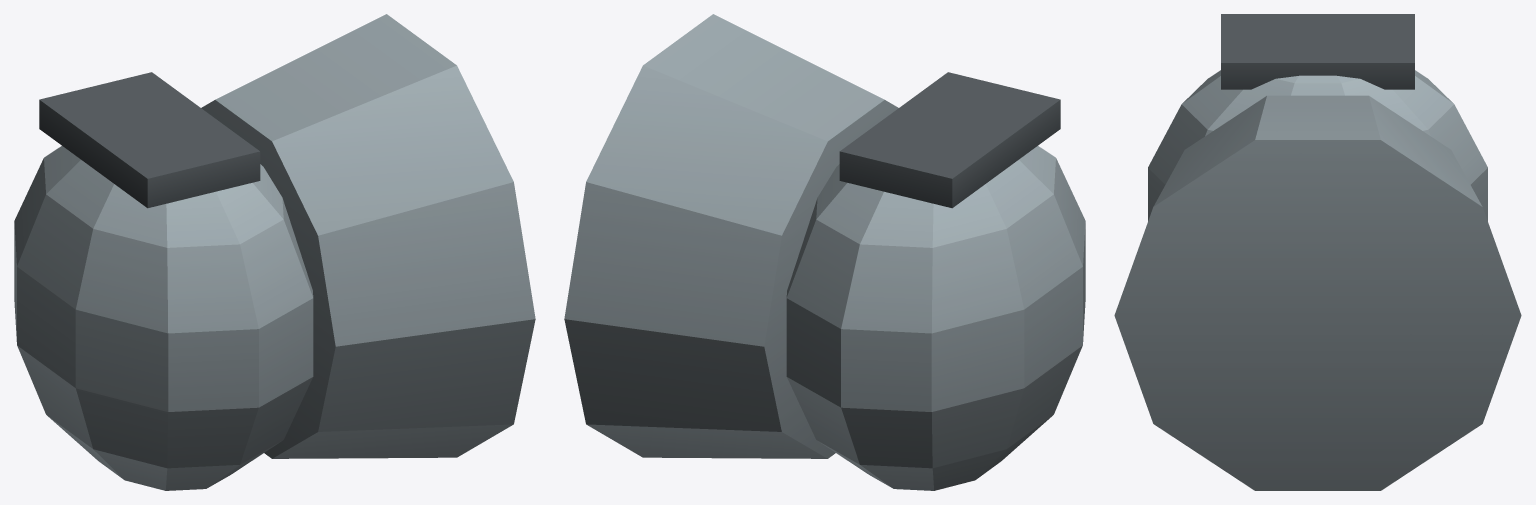
The model's file is iron_gauntlets_r.glb.
3 views of the same model, side by side, from view 1: azimuth 30°, elevation 25°; view 2: azimuth 150°, elevation 25°; view 3: azimuth 270°, elevation 25° (orthographic). The views are drawn at different scales.
Visible parts, largest first — view 1: iron_gauntlets; view 2: iron_gauntlets; view 3: iron_gauntlets.
Part boxes in pixels (box(x1,y1,x2,y2)): iron_gauntlets: box(14, 14, 535, 490); iron_gauntlets: box(564, 14, 1085, 490); iron_gauntlets: box(1114, 14, 1521, 490).
Bounding box in the file's own units: 0.4002 × 0.3994 × 0.42.
Materials: 1 (1 with a texture image).
